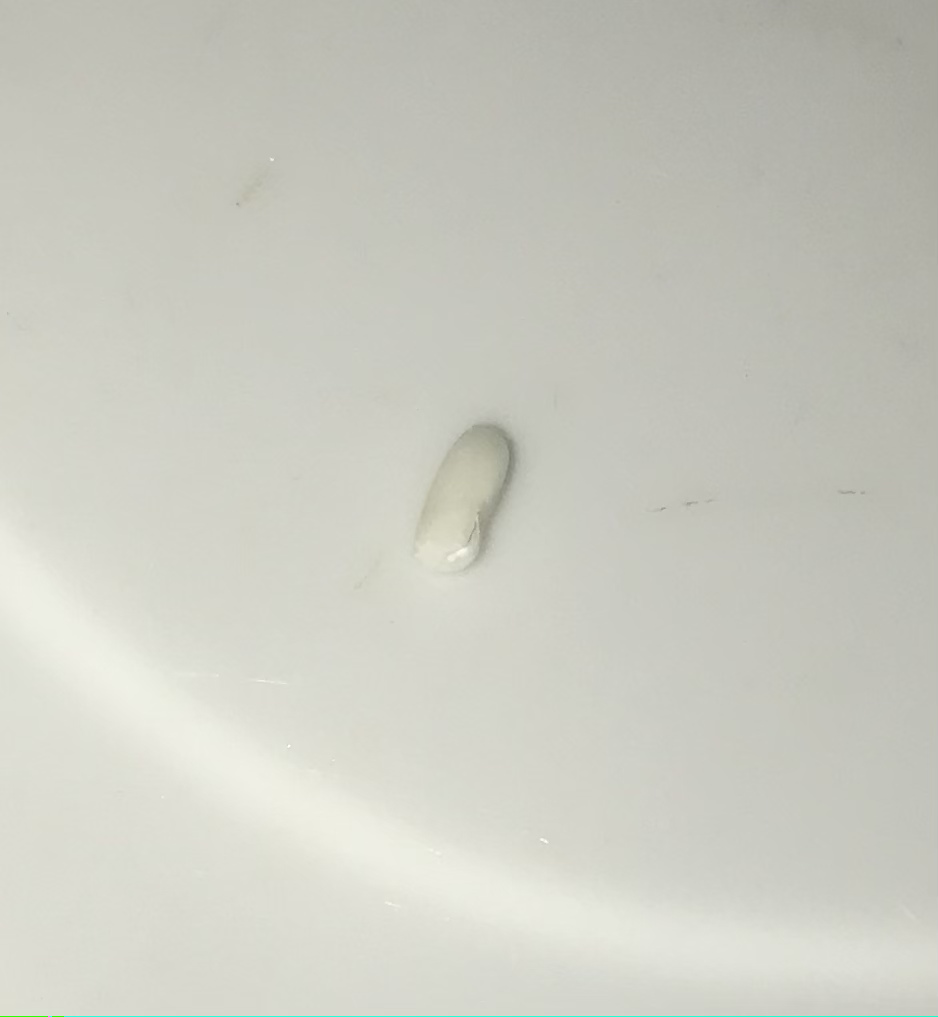Gao Nep Sap: (409, 415, 522, 582)
